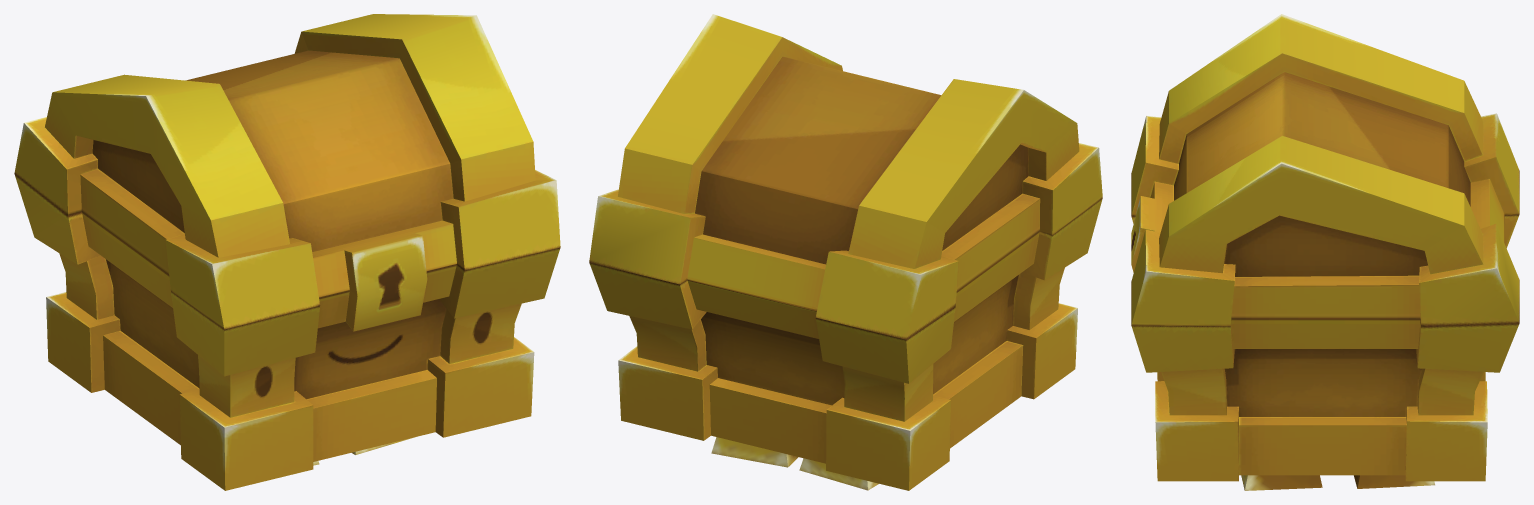
File: pets_72.fbx
3 renders of one model, left to right at view 1: azimuth 30°, elevation 25°; view 2: azimuth 150°, elevation 25°; view 3: azimuth 270°, elevation 25°, orthographic. The views are drawn at different scales.
Parts seen in each view (by area): view 1: Pet.096; view 2: Pet.096; view 3: Pet.096.
Boxes of the visible parts, x1,y1,x2,y2 form: Pet.096: (14, 14, 560, 490); Pet.096: (589, 14, 1102, 490); Pet.096: (1131, 14, 1519, 490).
Bounding box in the file's own units: 0.4201 × 0.4425 × 0.4507.
